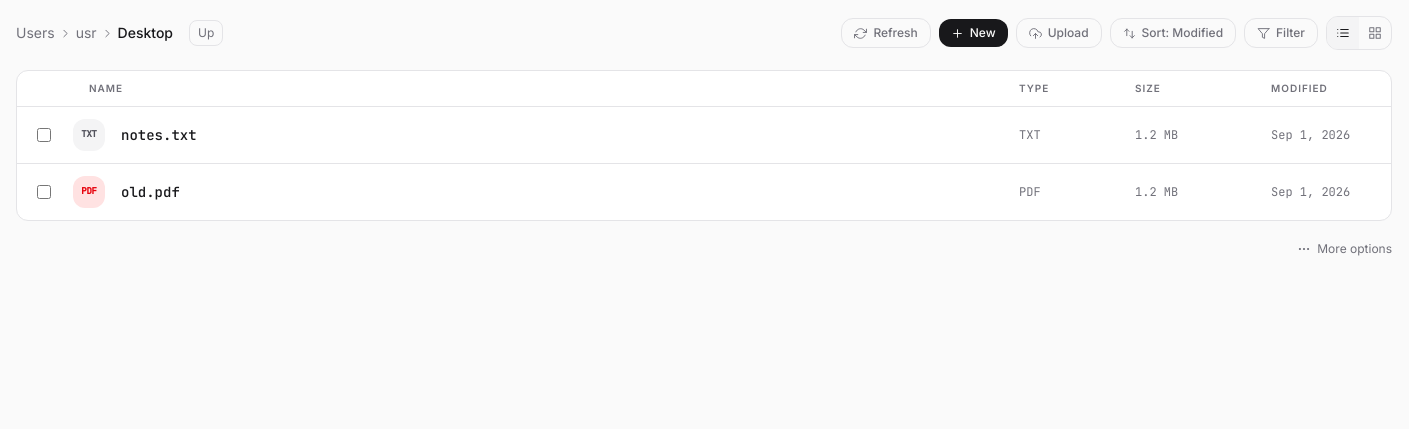
it: Files › filters the listing by recent modified date
This screenshot has width=1409, height=429.
What coordinates should you click on to do the following:
click the button "Filter"
I would click on:
 (1281, 33)
Its box is [1244,18,1318,48].
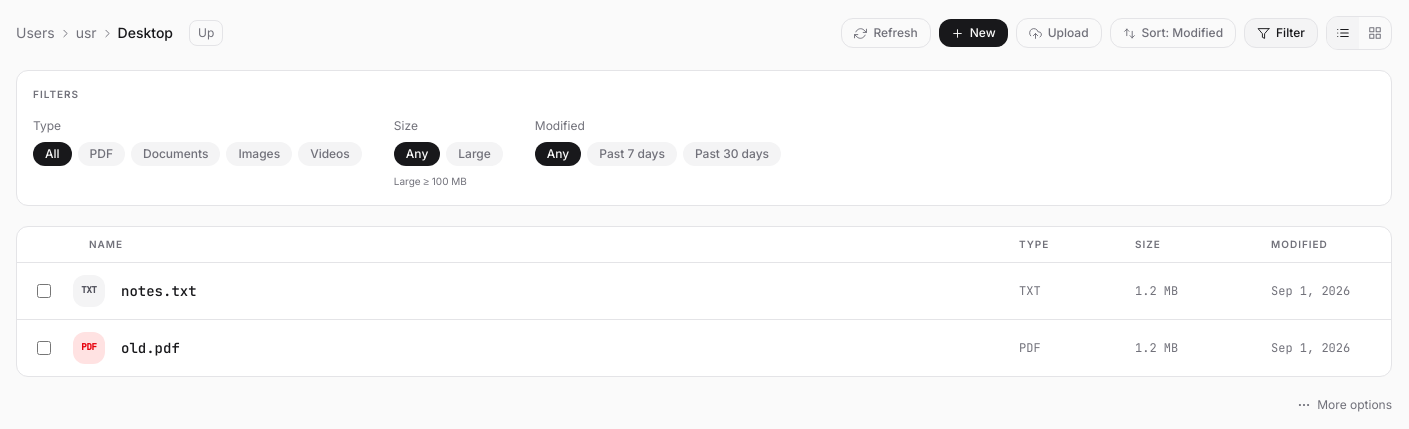
What coordinates should you click on to do the following:
click the button "Past 7 days"
I would click on:
 (632, 154)
Its box is [587,142,677,166].
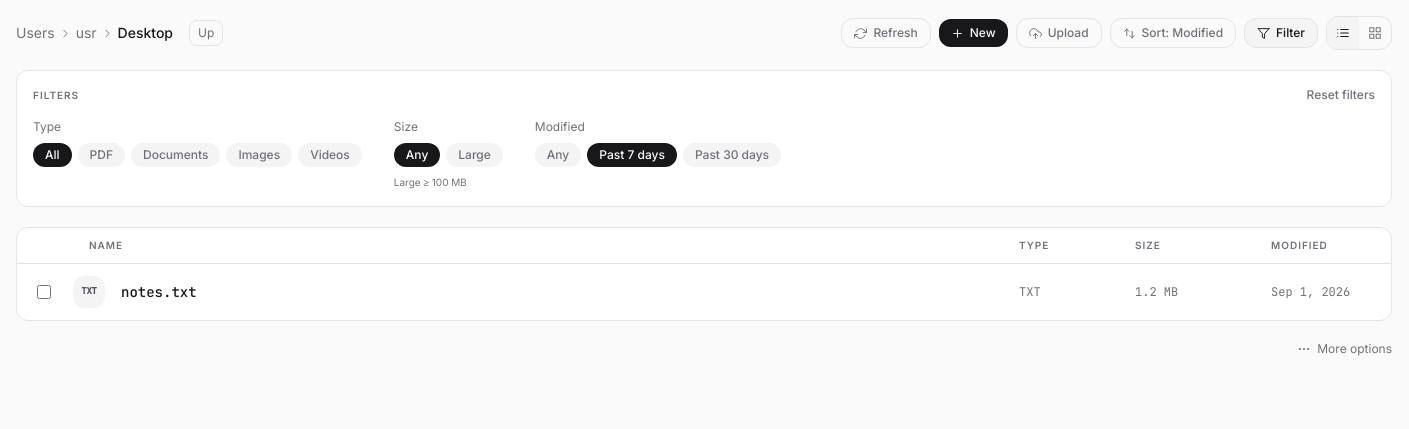
Expected: the text "notes.txt" is shown, [121,282,197,302]
Result: the text "old.pdf" is gone
